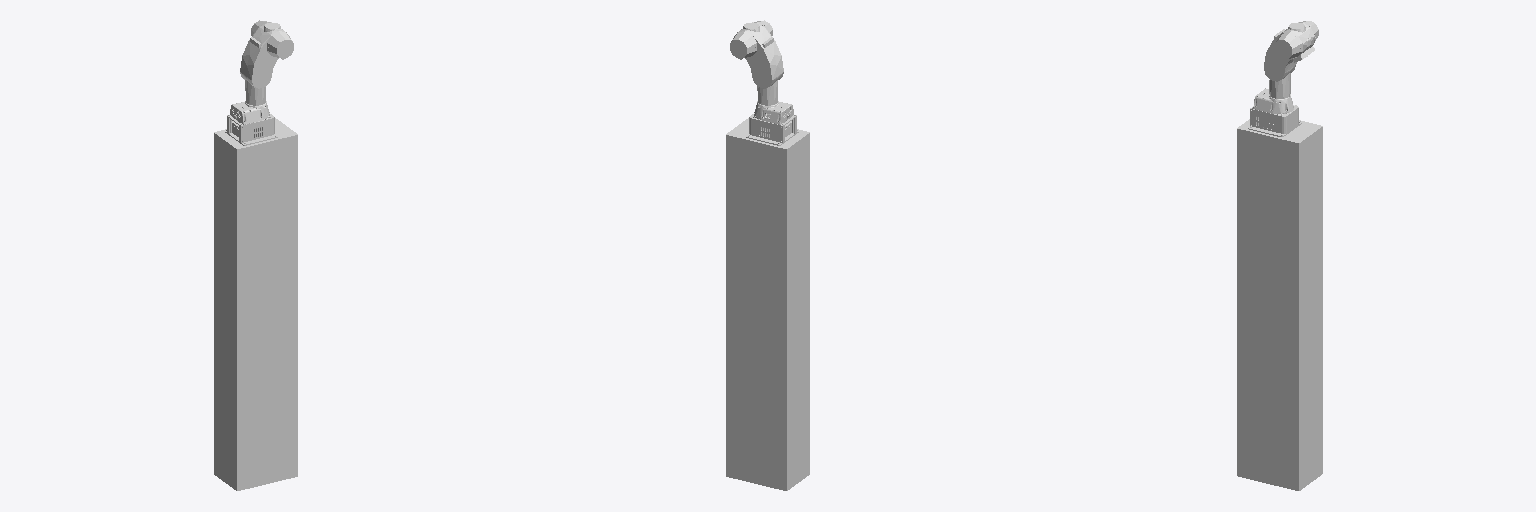
The robot description file, URDF, robot "merged":
<?xml version="1.0" encoding="utf-8"?>
<robot name="merged">

  <material name="white">
    <color rgba="0.9 0.9 0.9 1.0"/>
  </material>
  <material name="red">
    <color rgba="0.8984375 0.0 0.0703125 1"/>
  </material>

<link name="root">
  <inertial>
    <mass value="1"/>
    <inertia ixx="0.04" ixy="0.00" ixz="0.00" iyy="0.04" iyz="0.00" izz="0.02"/>
  </inertial>
</link>
  <link name="root_arm_1_link_1">
    <inertial>
      <mass value="1"/>
      <inertia ixx="0.04" ixy="0.00" ixz="0.00" iyy="0.04" iyz="0.00" izz="0.02"/>
    </inertial>
  </link>
  <link name="root_arm_1_link_2">
    <inertial>
      <mass value="1"/>
      <inertia ixx="0.04" ixy="0.00" ixz="0.00" iyy="0.04" iyz="0.00" izz="0.02"/>
    </inertial>
  </link>
  <joint name="root_x_axis_joint" type="fixed">
    <parent link="root"/>
    <child link="root_arm_1_link_1"/>
    <axis xyz="1 0 0"/>
    <limit lower="-10" upper="10" velocity="0.50"/>
    <dynamics damping="10.0" friction="0"/>
  </joint>
  <joint name="root_y_axis_joint" type="fixed">
    <parent link="root_arm_1_link_1"/>
    <child link="root_arm_1_link_2"/>
    <axis xyz="0 1 0"/>
    <limit lower="-10" upper="10" velocity="0.50"/>
    <dynamics damping="10.0" friction="0"/>
  </joint>
  <joint name="root_z_rotation_joint" type="fixed">
    <parent link="root_arm_1_link_2"/>
    <child link="mobile_base"/>
    <axis xyz="0 0 1"/>
    <dynamics damping="10.0" friction="0"/>
  </joint>

  <link name="mobile_base">
    <inertial>
      <mass value="1"/>
      <inertia ixx="0.04" ixy="0.00" ixz="0.00" iyy="0.04" iyz="0.00" izz="0.02"/>
    </inertial>
  </link>

  <joint name="linear_actuator_height" type="fixed">
    <!-- <origin rpy="0 0 0" xyz="0 0 0.205"/> -->
    <parent link="mobile_base"/>
    <child link="adjustable_body"/>
    <axis xyz="0 0 1"/>
    <dynamics damping="10.0" friction="0"/>
    <limit lower="0" upper="1.6" velocity="0.50"/>
  </joint>

  <link name="adjustable_body">
    <inertial>
      <mass value="10"/>
      <inertia ixx="0.04" ixy="0.00" ixz="0.00" iyy="0.04" iyz="0.00" izz="0.02"/>
    </inertial>
    <visual>
      <origin rpy="0 0 0" xyz="0 0 -0.8"/>
      <geometry>
        <box size="0.3 0.2 1.6"/>
      </geometry>
      <material name="white"/>
    </visual>
    <collision>
      <origin rpy="0 0 0" xyz="0.0 0.0 -0.8"/>
      <geometry>
        <box size="0.3 0.2 1.6"/>
      </geometry>
    </collision>
  </link>

  <joint name="fixed_joint_to_body_base" type="fixed">
    <origin rpy="0 0 0" xyz="0 0 0"/>
    <parent link="adjustable_body"/>
    <child link="body_base_link"/>
  </joint>

  <link name="body_base_link">
    <visual>
      <geometry>
        <mesh filename="sciurus17_description/meshes/visual/Base.obj" scale="1.0 1.0 1.0"/>
      </geometry>
      <material name="white"/>
    </visual>
    <collision>
      <origin rpy="0 0 0" xyz="0.0 0.0 0.0"/>
      <geometry>
        <mesh filename="sciurus17_description/meshes/collision/Base.obj" scale="1.0 1.0 1.0"/>
      </geometry>
    </collision>
    <inertial>
      <origin rpy="0 0 0" xyz="-24.012e-03 0.139e-03 59.566e-03"/>
      <inertia ixx="6398092.663e-09" ixy="-6808.969e-09" ixz="-331509.04e-09" iyy="7611664.357e-09" iyz="2026.354e-09"
               izz="6331936.461e-09"/>
      <mass value="1722.937e-03"/>
    </inertial>
  </link>
  <joint name="waist_yaw_joint" type="fixed">
    <parent link="body_base_link"/>
    <child link="body_link"/>
    <origin rpy="0 0 0" xyz="0.0 0.0 0.1315"/>
    <limit effort="4.0" lower="-1.91986217719" upper="1.91986217719" velocity="5.969211435"/>
    <axis xyz="0 0 1"/>
    <dynamics damping="1.0e-6" friction="0"/>
  </joint>
  <link name="body_link">
    <visual>
      <geometry>
        <mesh filename="sciurus17_description/meshes/visual/Body.obj" scale="1.0 1.0 1.0"/>
      </geometry>
      <material name="white"/>
    </visual>
    <collision>
      <origin rpy="0 0 0" xyz="0.0 0.0 0.0"/>
      <geometry>
        <mesh filename="sciurus17_description/meshes/collision/Body.obj" scale="1.0 1.0 1.0"/>
      </geometry>
    </collision>
    <inertial>
      <origin rpy="0 0 0" xyz="57.11e-03 0.372e-03 238.229e-03"/>
      <inertia ixx="15601031.58e-09" ixy="-15890.903e-09" ixz="-3805596.494e-09" iyy="13969734.5e-09"
               iyz="-20695.221e-09" izz="8327993.097e-09"/>
      <mass value="1482.929e-03"/>
    </inertial>
  </link>

  <!--  right arm right_panda-->
  <link name="right_panda_link1">
    <visual>
      <geometry>
        <mesh filename="franka_description/meshes/visual/link1.dae"/>
      </geometry>
    </visual>
    <collision>
      <geometry>
        <mesh filename="franka_description/meshes/collision/link1.obj"/>
      </geometry>
    </collision>
  </link>
  <joint name="right_panda_joint1" type="revolute">
    <safety_controller k_position="100.0" k_velocity="40.0" soft_lower_limit="-2.8973" soft_upper_limit="2.8973"/>
    <parent link="body_link"/>
    <child link="right_panda_link1"/>
    <axis xyz="0 0 1"/>
    <limit effort="87" lower="-2.8973" upper="2.8973" velocity="2.1750"/>
    <origin rpy="1.57079 0 0" xyz="0.08083 -0.3012 0.2885"/>
  </joint>
  <link name="right_panda_link2">
    <visual>
      <geometry>
        <mesh filename="franka_description/meshes/visual/link2.dae"/>
      </geometry>
    </visual>
    <collision>
      <geometry>
        <mesh filename="franka_description/meshes/collision/link2.obj"/>
      </geometry>
    </collision>
  </link>
  <joint name="right_panda_joint2" type="revolute">
    <safety_controller k_position="100.0" k_velocity="40.0" soft_lower_limit="-1.7628" soft_upper_limit="1.7628"/>
    <origin rpy="-1.57079632679 0 0" xyz="0 0 0"/>
    <parent link="right_panda_link1"/>
    <child link="right_panda_link2"/>
    <axis xyz="0 0 1"/>
    <limit effort="87" lower="-1.7628" upper="1.7628" velocity="2.1750"/>
  </joint>
  <link name="right_panda_link3">
    <visual>
      <geometry>
        <mesh filename="franka_description/meshes/visual/link3.dae"/>
      </geometry>
    </visual>
    <collision>
      <geometry>
        <mesh filename="franka_description/meshes/collision/link3.obj"/>
      </geometry>
    </collision>
  </link>
  <joint name="right_panda_joint3" type="revolute">
    <safety_controller k_position="100.0" k_velocity="40.0" soft_lower_limit="-2.8973" soft_upper_limit="2.8973"/>
    <origin rpy="1.57079632679 0 0" xyz="0 -0.316 0"/>
    <parent link="right_panda_link2"/>
    <child link="right_panda_link3"/>
    <axis xyz="0 0 1"/>
    <limit effort="87" lower="-2.8973" upper="2.8973" velocity="2.1750"/>
  </joint>
  <link name="right_panda_link4">
    <visual>
      <geometry>
        <mesh filename="franka_description/meshes/visual/link4.dae"/>
      </geometry>
    </visual>
    <collision>
      <geometry>
        <mesh filename="franka_description/meshes/collision/link4.obj"/>
      </geometry>
    </collision>
  </link>
  <joint name="right_panda_joint4" type="revolute">
    <safety_controller k_position="100.0" k_velocity="40.0" soft_lower_limit="-3.0718" soft_upper_limit="-0.0698"/>
    <origin rpy="1.57079632679 0 0" xyz="0.0825 0 0"/>
    <parent link="right_panda_link3"/>
    <child link="right_panda_link4"/>
    <axis xyz="0 0 1"/>
    <limit effort="87" lower="-3.0718" upper="-0.0698" velocity="2.1750"/>
  </joint>
  <link name="right_panda_link5">
    <visual>
      <geometry>
        <mesh filename="franka_description/meshes/visual/link5.dae"/>
      </geometry>
    </visual>
    <collision>
      <geometry>
        <mesh filename="franka_description/meshes/collision/link5.obj"/>
      </geometry>
    </collision>
  </link>
  <joint name="right_panda_joint5" type="revolute">
    <safety_controller k_position="100.0" k_velocity="40.0" soft_lower_limit="-2.8973" soft_upper_limit="2.8973"/>
    <origin rpy="-1.57079632679 0 0" xyz="-0.0825 0.384 0"/>
    <parent link="right_panda_link4"/>
    <child link="right_panda_link5"/>
    <axis xyz="0 0 1"/>
    <limit effort="12" lower="-2.8973" upper="2.8973" velocity="2.6100"/>
  </joint>
  <link name="right_panda_link6">
    <visual>
      <geometry>
        <mesh filename="franka_description/meshes/visual/link6.dae"/>
      </geometry>
    </visual>
    <collision>
      <geometry>
        <mesh filename="franka_description/meshes/collision/link6.obj"/>
      </geometry>
    </collision>
  </link>
  <joint name="right_panda_joint6" type="revolute">
    <safety_controller k_position="100.0" k_velocity="40.0" soft_lower_limit="-0.0175" soft_upper_limit="3.7525"/>
    <origin rpy="1.57079632679 0 0" xyz="0 0 0"/>
    <parent link="right_panda_link5"/>
    <child link="right_panda_link6"/>
    <axis xyz="0 0 1"/>
    <limit effort="12" lower="-0.0175" upper="3.7525" velocity="2.6100"/>
  </joint>
  <link name="right_panda_link7">
    <visual>
      <geometry>
        <mesh filename="franka_description/meshes/visual/link7.dae"/>
      </geometry>
    </visual>
    <collision>
      <geometry>
        <mesh filename="franka_description/meshes/collision/link7.obj"/>
      </geometry>
    </collision>
  </link>
  <joint name="right_panda_joint7" type="revolute">
    <safety_controller k_position="100.0" k_velocity="40.0" soft_lower_limit="-2.8973" soft_upper_limit="2.8973"/>
    <origin rpy="1.57079632679 0 0" xyz="0.088 0 0"/>
    <parent link="right_panda_link6"/>
    <child link="right_panda_link7"/>
    <axis xyz="0 0 1"/>
    <limit effort="12" lower="-2.8973" upper="2.8973" velocity="2.6100"/>
  </joint>
  <link name="right_panda_tool_tip"/>
  <link name="right_panda_link8">
    <inertial>
      <mass value="0.1"/>
      <inertia ixx="4e-4" ixy="0.0" ixz="0.0" iyy="4e-4" iyz="0.0" izz="4e-4"/>
    </inertial>
  </link>
  <joint name="right_panda_joint8" type="fixed">
    <origin rpy="0 0 0" xyz="0 0 0.107"/>
    <parent link="right_panda_link7"/>
    <child link="right_panda_link8"/>
    <axis xyz="0 0 0"/>
  </joint>
  <joint name="right_panda_hand_joint" type="fixed">
    <parent link="right_panda_link8"/>
    <child link="right_panda_hand"/>
    <origin rpy="0 0 -0.785398163397" xyz="0 0 0"/>
  </joint>
  <link name="right_panda_hand">
    <visual>
      <geometry>
        <mesh filename="franka_description/meshes/visual/hand.dae"/>
      </geometry>
    </visual>
    <collision>
      <geometry>
        <mesh filename="franka_description/meshes/collision/hand.obj"/>
      </geometry>
    </collision>
  </link>
  <joint name="right_panda_tool_tip_joint" type="fixed">
    <origin rpy="0 -1.5708 0" xyz="0 0 0.1"/>
    <parent link="right_panda_hand"/>
    <child link="right_panda_tool_tip"/>
    <axis xyz="0 0 0"/>
  </joint>
  <link name="right_panda_leftfinger">
    <visual>
      <geometry>
        <mesh filename="franka_description/meshes/visual/finger.dae"/>
      </geometry>
    </visual>
    <collision>
      <geometry>
        <mesh filename="franka_description/meshes/collision/finger.obj"/>
      </geometry>
    </collision>
  </link>
  <link name="right_panda_rightfinger">
    <visual>
      <origin rpy="0 0 3.14159265359" xyz="0 0 0"/>
      <geometry>
        <mesh filename="franka_description/meshes/visual/finger.dae"/>
      </geometry>
    </visual>
    <collision>
      <origin rpy="0 0 3.14159265359" xyz="0 0 0"/>
      <geometry>
        <mesh filename="franka_description/meshes/collision/finger.obj"/>
      </geometry>
    </collision>
  </link>
  <joint name="right_panda_finger_joint1" type="fixed">
    <parent link="right_panda_hand"/>
    <child link="right_panda_leftfinger"/>
    <origin rpy="0 0 0" xyz="0 0 0.0584"/>
    <axis xyz="0 1 0"/>
    <limit effort="20" lower="0.0" upper="0.04" velocity="0.2"/>
  </joint>
  <joint name="right_panda_finger_joint2" type="fixed">
    <parent link="right_panda_hand"/>
    <child link="right_panda_rightfinger"/>
    <origin rpy="0 0 0" xyz="0 0 0.0584"/>
    <axis xyz="0 -1 0"/>
    <limit effort="20" lower="0.0" upper="0.04" velocity="0.2"/>
    <mimic joint="right_panda_finger_joint1"/>
  </joint>



</robot>

--- Facts derived from the render (not from the file) ---
3 views of the same robot in one strip: view 1: azimuth 30°, elevation 25°; view 2: azimuth 150°, elevation 25°; view 3: azimuth 330°, elevation 25° (orthographic).
Robot: merged — 19 links, 18 joints (7 revolute, 11 fixed); root link root; default pose: all joints at 0 but 1 set to mid-range because 0 is outside their limits (right_panda_joint4 = -1.57).
Links seen in each view (by area): view 1: adjustable_body, body_link, body_base_link; view 2: adjustable_body, body_link, body_base_link; view 3: adjustable_body, body_link, body_base_link.
Link boxes in pixels (x1,y1,x2,y2): adjustable_body: [214, 118, 297, 490]; body_link: [240, 20, 293, 105]; body_base_link: [225, 101, 277, 145]; adjustable_body: [726, 118, 809, 490]; body_link: [730, 20, 783, 105]; body_base_link: [746, 101, 798, 145]; adjustable_body: [1237, 119, 1322, 490]; body_link: [1264, 21, 1318, 98]; body_base_link: [1248, 88, 1301, 136].
Size in the robot's own frame: 0.3 by 0.221 by 2.08 metres.
Meshes: 11 distinct files referenced, 2 mesh visuals loaded (2 OBJ); not drawn: 10 (reference not matched to a file when rendering).